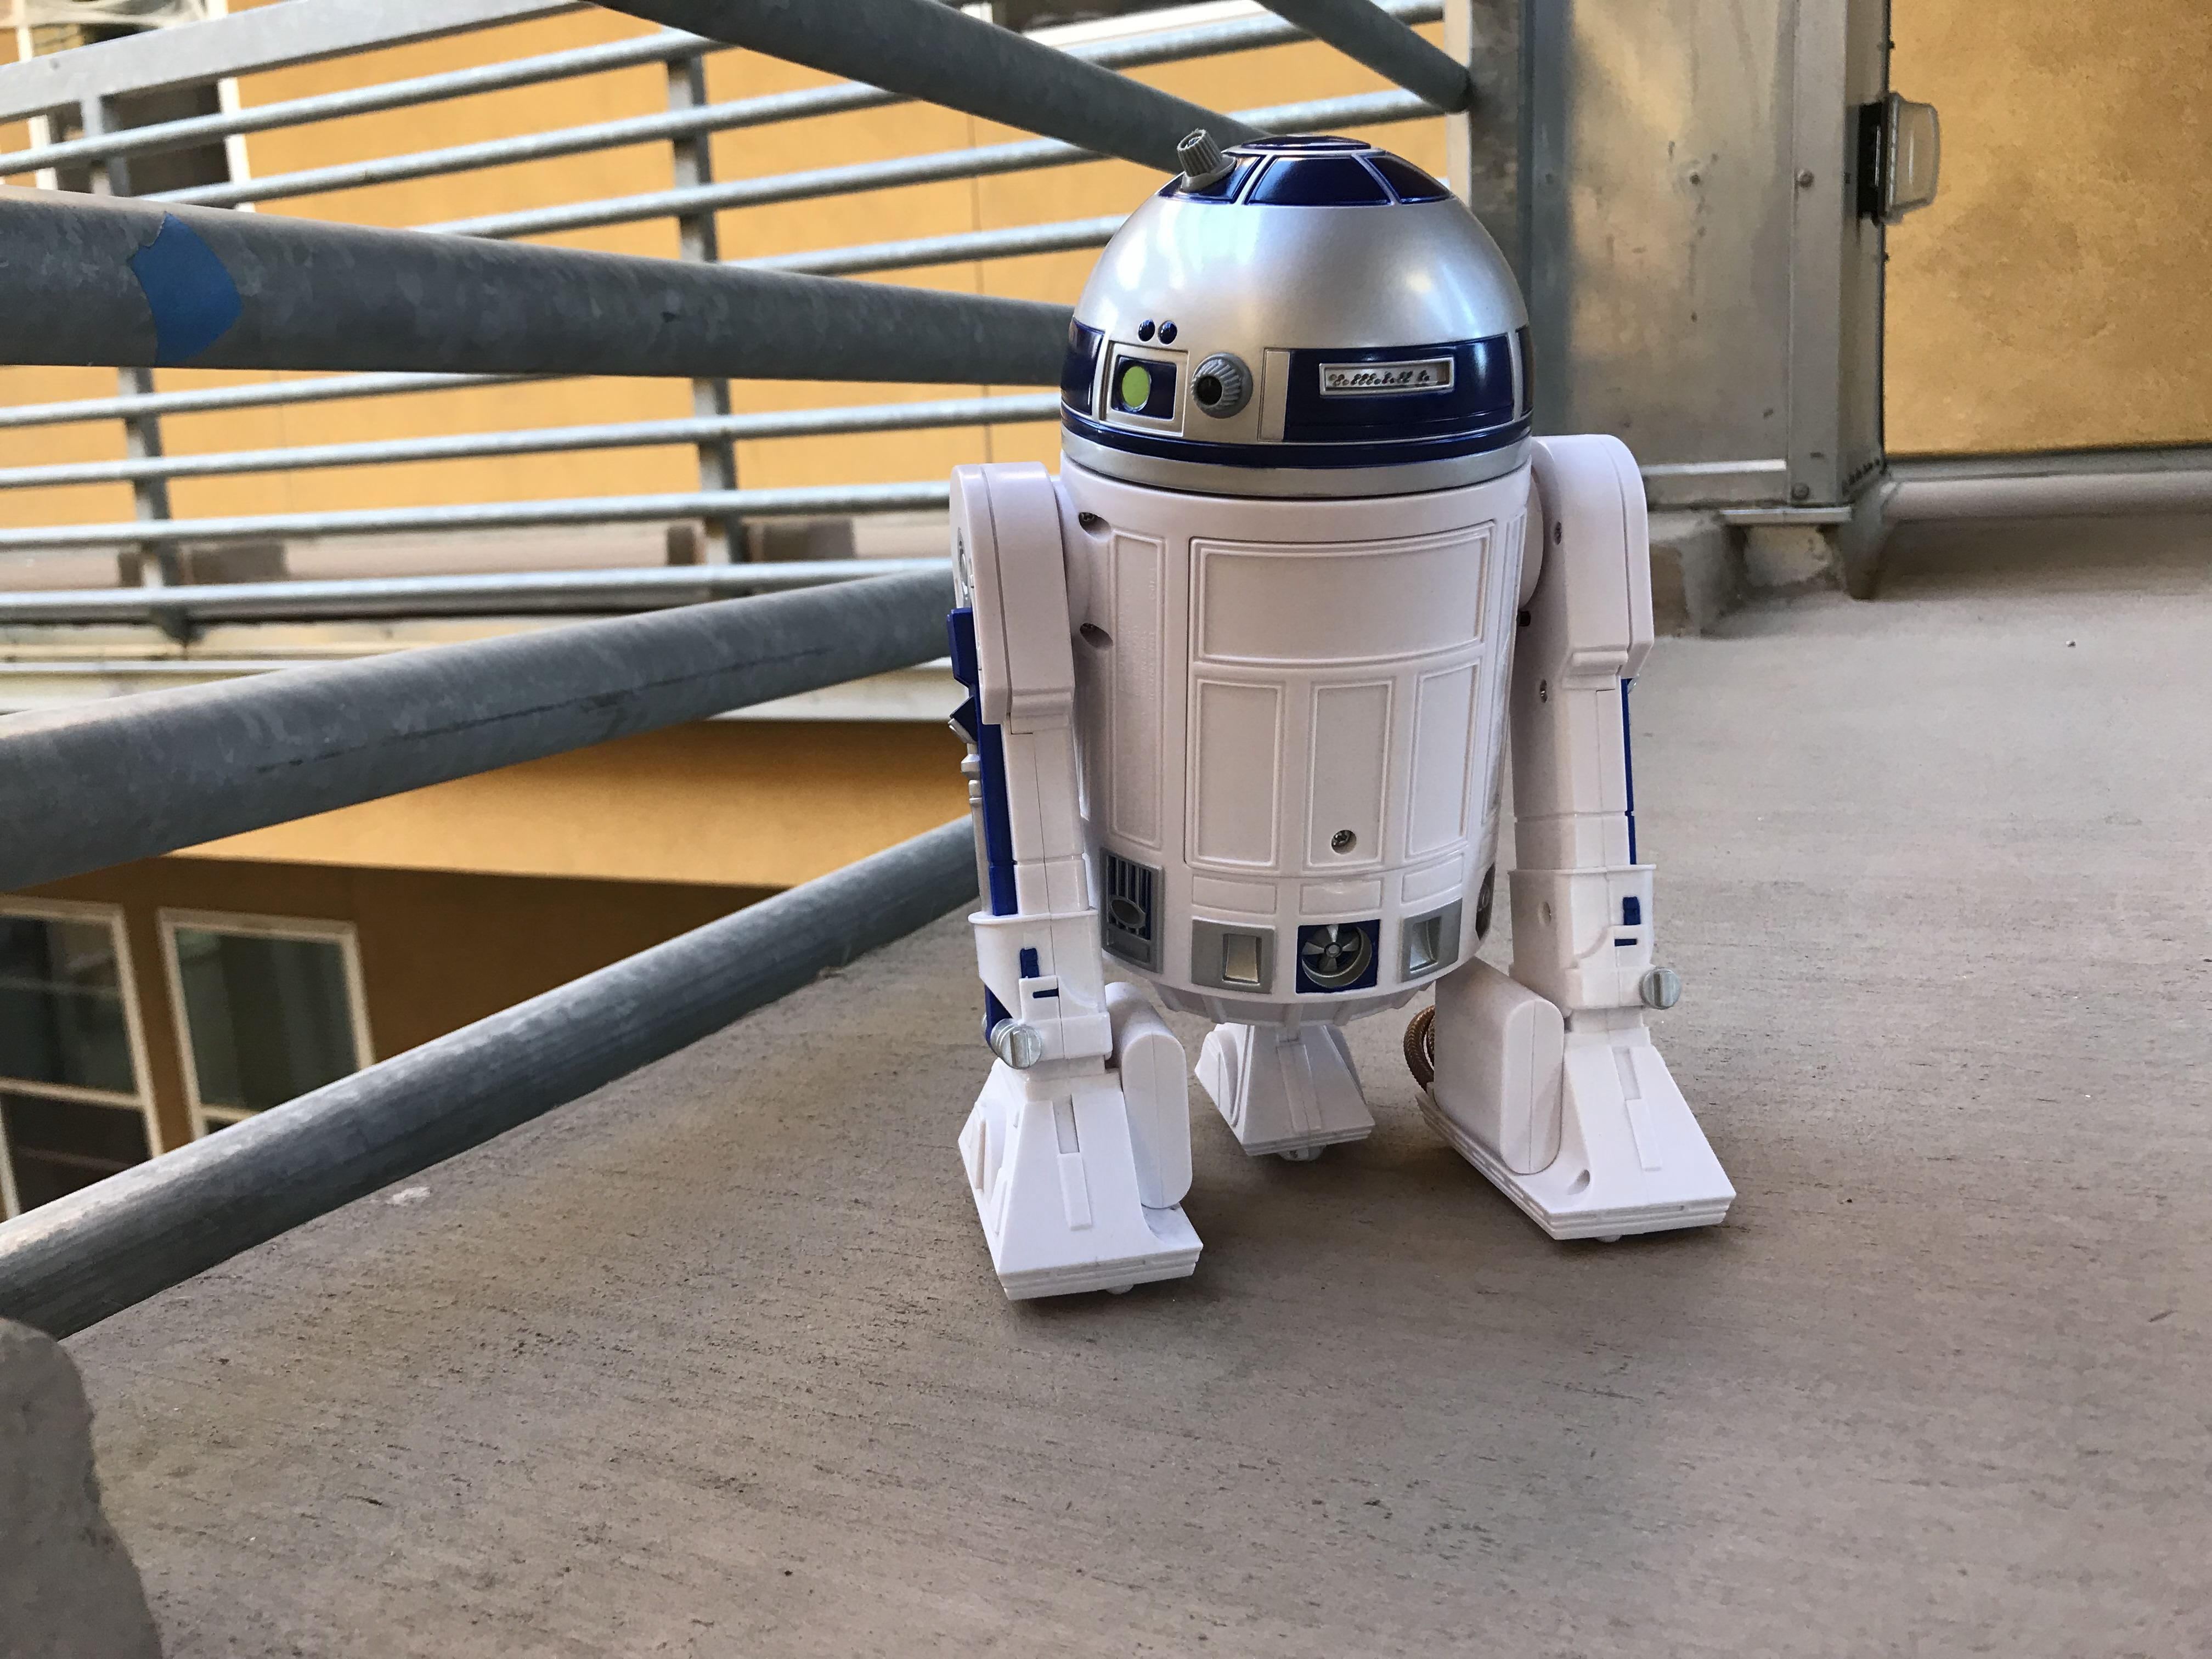r2d2: (956, 132, 1737, 1298)
